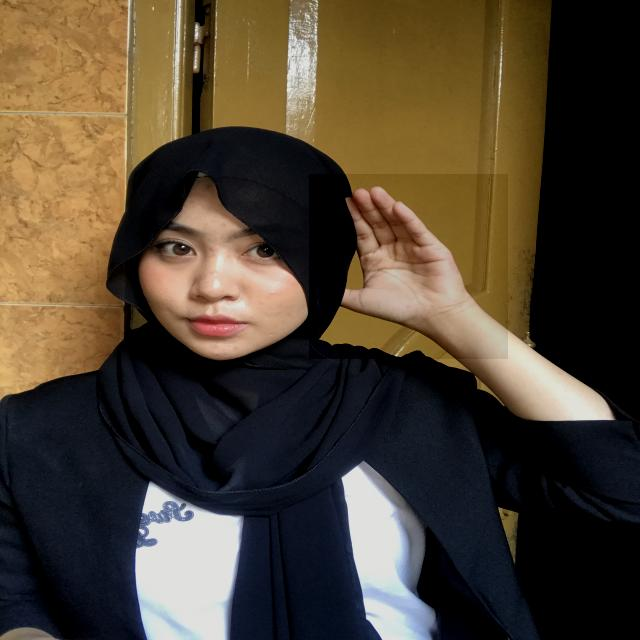mendengar: (309, 174, 508, 359)
